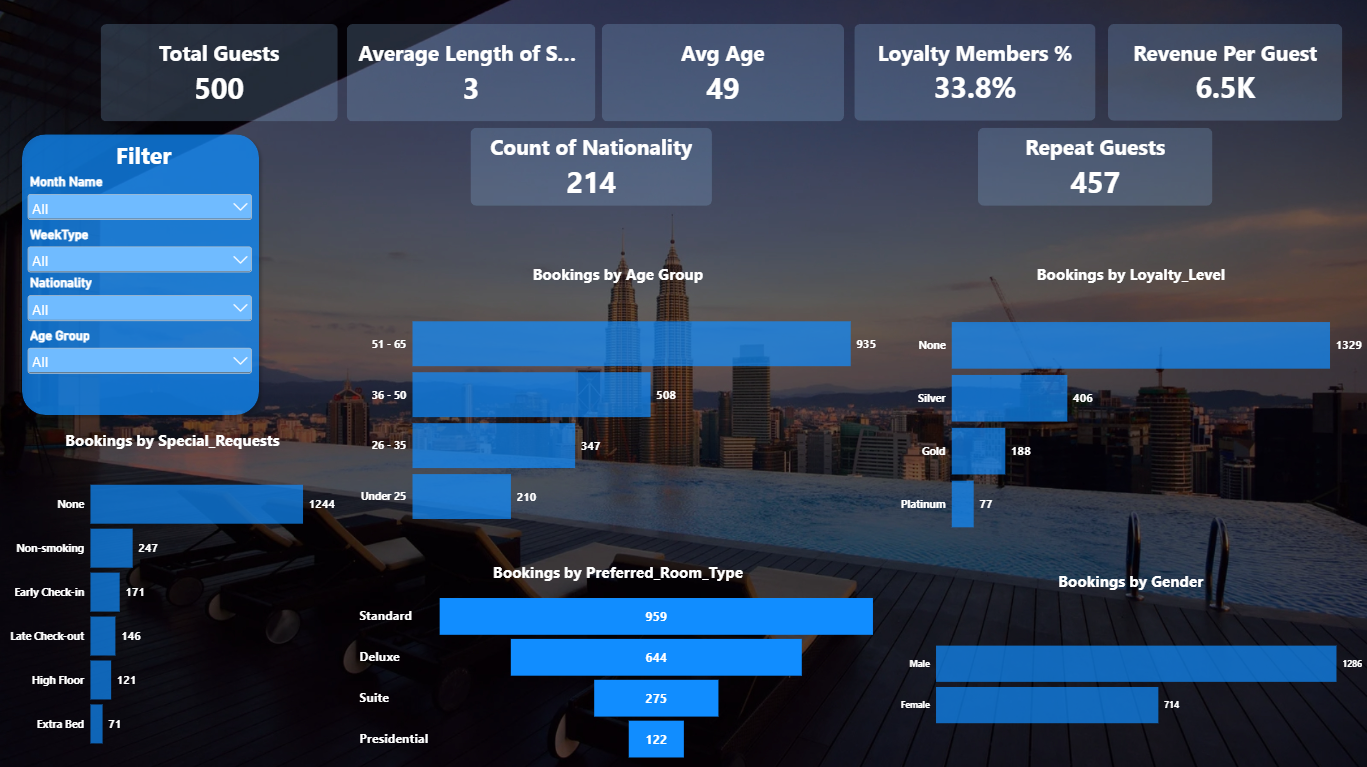

What the dashboard file says about the page in this screenshot:
{"tool":"powerbi","page":{"name":"Guests & Demographics Intelligence","canvas":[1920,1080],"ordinal":4},"visuals":[{"type":"cardVisual","fields":{"Data":["Guests.Avg Age"]},"box":[842.9,34.2,338.6,136.9],"z":0},{"type":"cardVisual","fields":{"Data":["measure.Revenue Per Guest"]},"box":[1548.2,35.2,327.8,135.2],"z":1000},{"type":"cardVisual","fields":{"Data":["measure.Total Guests"]},"box":[142.3,34.2,331.4,136],"z":2000},{"type":"cardVisual","fields":{"Data":["measure.Loyalty Members %"]},"box":[1194.4,35.2,337,135.2],"z":3000},{"type":"cardVisual","fields":{"Data":["measure.Average Length of Stay"]},"box":[486.3,34.2,347.1,136],"z":5000},{"type":"barChart","fields":{"Category":["Guests.Special_Requests"],"Y":["measure.Total Bookings"]},"box":[0,586,486.6,493.6],"z":20000},{"type":"barChart","fields":{"Category":["Guests.Loyalty_Level"],"Y":["measure.Total Bookings"]},"box":[1242.6,353.7,677.8,429.6],"z":21000},{"type":"funnel","fields":{"Category":["Guests.Preferred_Room_Type"],"Y":["measure.Total Bookings"]},"box":[488.4,770.9,753.5,308.7],"z":22000},{"type":"cardVisual","fields":{"Data":["measure.Repeat Guests"]},"box":[1367.4,179.7,327.9,109.9],"z":23000},{"type":"cardVisual","fields":{"Data":["Count(Guests.Nationality)"]},"box":[659.3,179.7,337,109.3],"z":24000},{"type":"barChart","fields":{"Category":["Guests.Gender"],"Y":["measure.Total Bookings"]},"box":[1242.6,783.3,677.8,296.3],"z":25000},{"type":"barChart","fields":{"Category":["Guests.Age Group"],"Y":["measure.Total Bookings"]},"box":[488.4,354.1,753.5,416.9],"z":26000},{"type":"shape","title":"Filter","box":[23.7,179,348.8,409.9],"z":26001},{"type":"textbox","box":[123.1,194.7,158.7,48.8],"z":26002},{"type":"slicer","fields":{"Values":["Dim_Date.Month Name"]},"box":[35.9,243.5,322.7,73.3],"z":26003},{"type":"slicer","fields":{"Values":["Dim_Date.WeekType"]},"box":[35.9,316.7,322.7,73.3],"z":26004},{"type":"slicer","fields":{"Values":["Guests.Nationality"]},"box":[35.9,384.8,322.7,73.3],"z":26005},{"type":"slicer","fields":{"Values":["Guests.Age Group"]},"box":[35.9,458,322.7,73.3],"z":26006}]}

Visuals, with their boxes in screenshot pixels (x1, y1, x2, y2), scaled from the page's 1920x1080 canvas onto the 1367x767 screenshot:
cardVisual - Guests.Avg Age: region(600, 24, 841, 122)
cardVisual - measure.Revenue Per Guest: region(1102, 25, 1336, 121)
cardVisual - measure.Total Guests: region(101, 24, 337, 121)
cardVisual - measure.Loyalty Members %: region(850, 25, 1090, 121)
cardVisual - measure.Average Length of Stay: region(346, 24, 593, 121)
barChart - Guests.Special_Requests x measure.Total Bookings: region(0, 416, 346, 766)
barChart - Guests.Loyalty_Level x measure.Total Bookings: region(885, 251, 1366, 556)
funnel - Guests.Preferred_Room_Type x measure.Total Bookings: region(348, 547, 884, 766)
cardVisual - measure.Repeat Guests: region(974, 128, 1207, 206)
cardVisual - Count(Guests.Nationality): region(469, 128, 709, 205)
barChart - Guests.Gender x measure.Total Bookings: region(885, 556, 1366, 766)
barChart - Guests.Age Group x measure.Total Bookings: region(348, 251, 884, 548)
"Filter" shape: region(17, 127, 265, 418)
textbox: region(88, 138, 201, 173)
slicer - Dim_Date.Month Name: region(26, 173, 255, 225)
slicer - Dim_Date.WeekType: region(26, 225, 255, 277)
slicer - Guests.Nationality: region(26, 273, 255, 325)
slicer - Guests.Age Group: region(26, 325, 255, 377)
